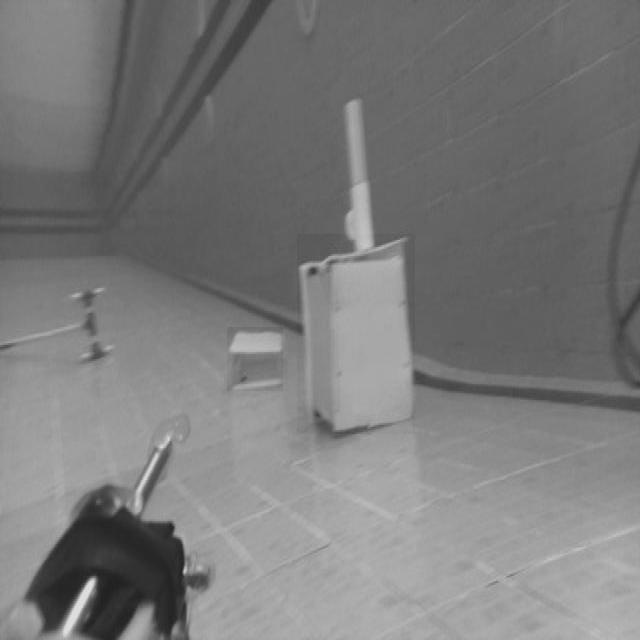Cube: (297, 234, 415, 434)
Cuboid: (227, 327, 283, 391)
